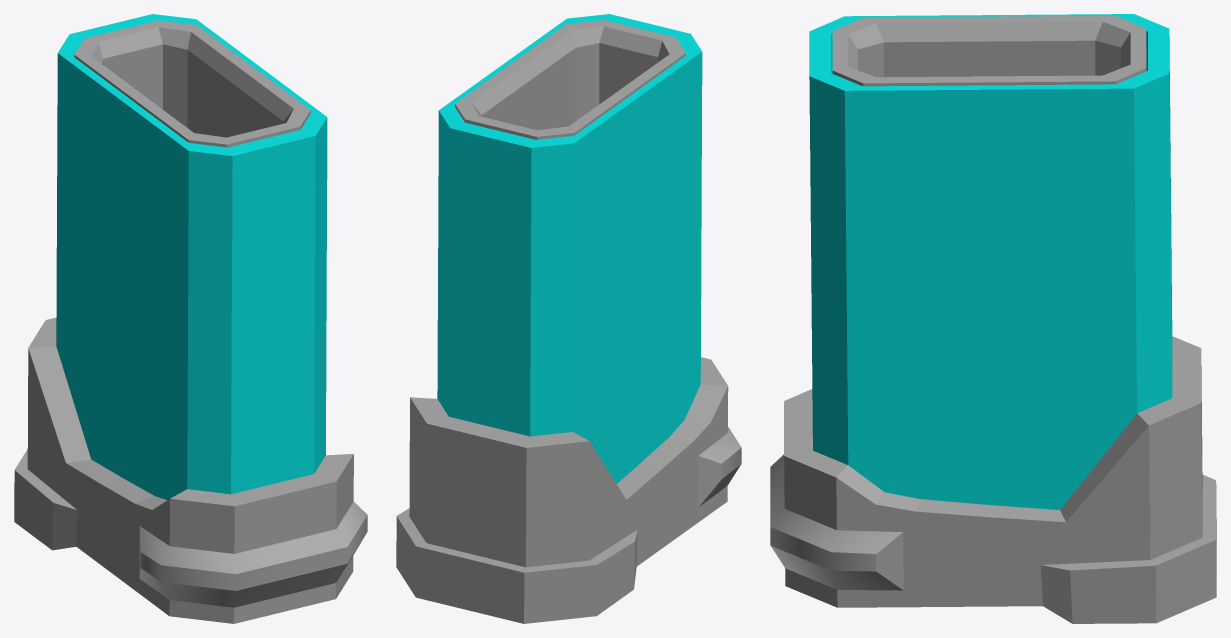
The model's file is Sci-fi Rifle 2 Ammo Empty.fbx.
3 views of the same model, side by side, from view 1: azimuth 30°, elevation 25°; view 2: azimuth 150°, elevation 25°; view 3: azimuth 270°, elevation 25° (orthographic). The views are drawn at different scales.
Parts seen in each view (by area): view 1: Sci_fi_Rifle_2_Ammo_Empty; view 2: Sci_fi_Rifle_2_Ammo_Empty; view 3: Sci_fi_Rifle_2_Ammo_Empty.
Part boxes in pixels (box(x1,y1,x2,y2)): Sci_fi_Rifle_2_Ammo_Empty: box(14, 14, 367, 623); Sci_fi_Rifle_2_Ammo_Empty: box(396, 14, 741, 623); Sci_fi_Rifle_2_Ammo_Empty: box(770, 14, 1216, 623).
Size of the model in its own units: 7.86 by 17.15 by 13.33.
